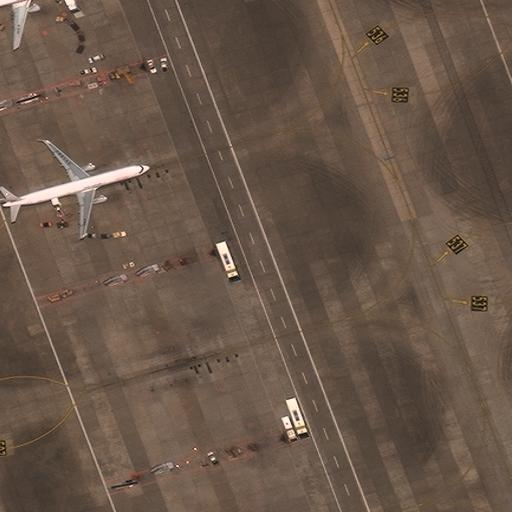Medium Civil Transport: (0, 137, 150, 234), (0, 0, 60, 48)
